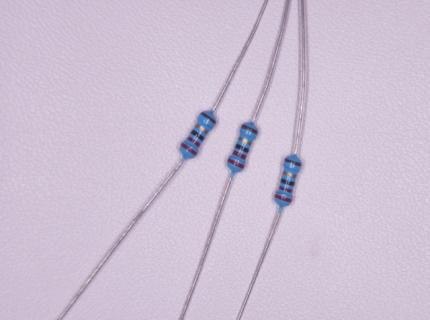Black band: (191, 129, 205, 142), (235, 143, 249, 154), (281, 178, 295, 186)
Brown band: (199, 111, 217, 125), (241, 124, 259, 135), (284, 158, 302, 167)
Gold band: (194, 123, 209, 135), (238, 136, 252, 146), (283, 170, 297, 178)
Red band: (181, 142, 198, 156), (227, 157, 245, 170), (186, 136, 201, 148), (275, 194, 293, 203), (232, 150, 247, 160), (279, 185, 293, 193)
